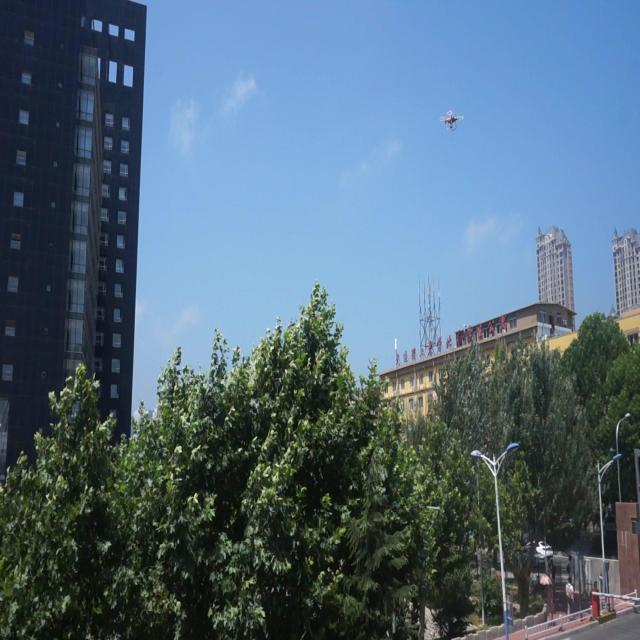drone: (440, 107, 462, 131)
